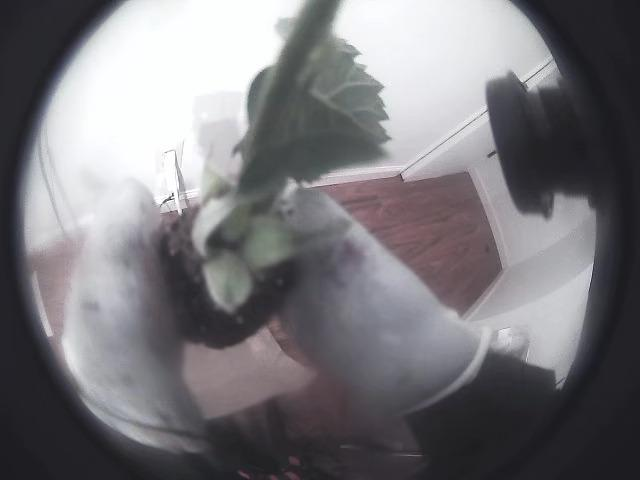berry: (160, 0, 339, 348)
gripper: (280, 187, 495, 416), (61, 180, 202, 449)
lense: (0, 0, 156, 479), (492, 0, 639, 479)
